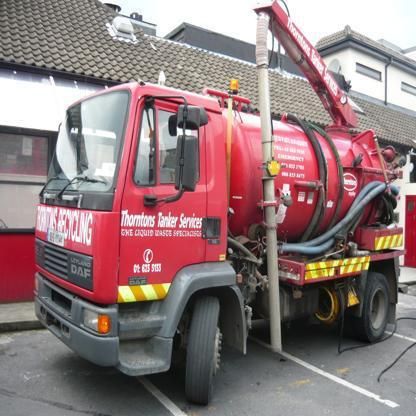fire-truck: (25, 9, 406, 404)
